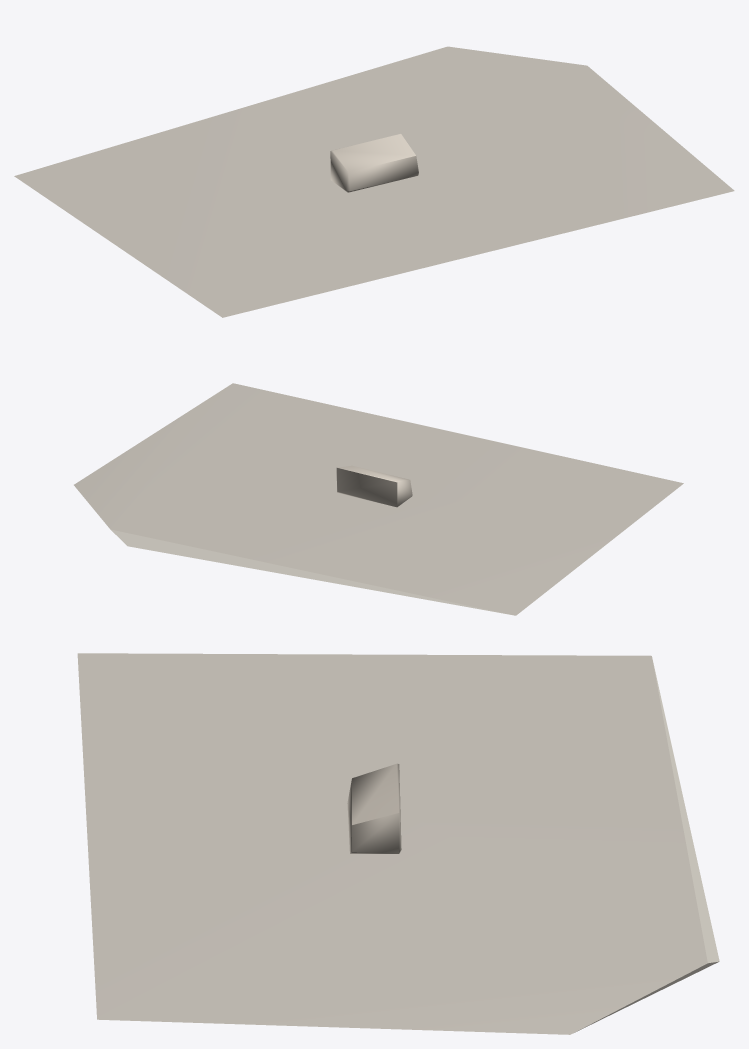
3 views of the same model, one above another, from view 1: azimuth 30°, elevation 25°; view 2: azimuth 150°, elevation 25°; view 3: azimuth 270°, elevation 25° (orthographic). The views are drawn at different scales.
Parts seen in each view (by area): view 1: T_Floor_LOD0, T_Sofa_LOD0; view 2: T_Floor_LOD0, T_Sofa_LOD0; view 3: T_Floor_LOD0, T_Sofa_LOD0.
Boxes of the visible parts, <box> form: T_Floor_LOD0: <box>14,46,734,317</box>; T_Sofa_LOD0: <box>330,134,418,192</box>; T_Floor_LOD0: <box>74,383,683,615</box>; T_Sofa_LOD0: <box>336,465,412,507</box>; T_Floor_LOD0: <box>77,653,719,1034</box>; T_Sofa_LOD0: <box>347,763,401,853</box>.
Size of the model in its own units: 16 by 12 by 1.1.
